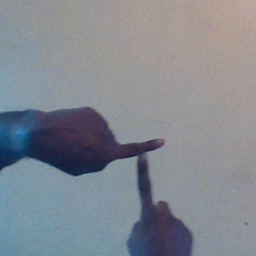T: (99, 118, 186, 229)
